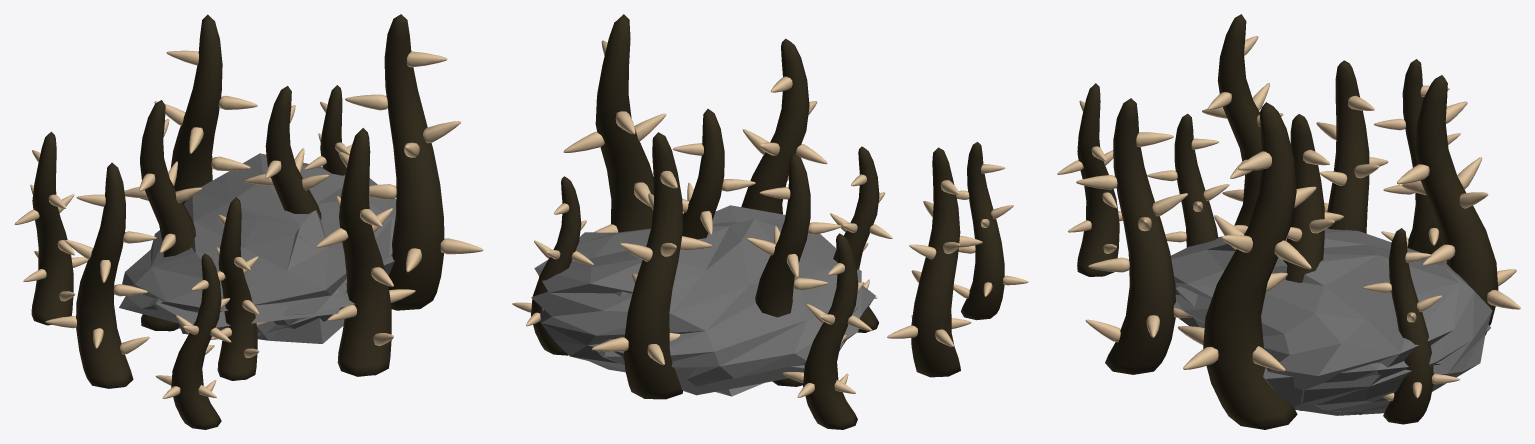
File: DikenveTas.fbx
The picture shows the model from 3 angles, left to right: view 1: azimuth 30°, elevation 25°; view 2: azimuth 150°, elevation 25°; view 3: azimuth 270°, elevation 25°; orthographic projection. The views are drawn at different scales.
Visible parts, largest first — view 1: Environment_Diken, Rock_4, Rock_3, Rock_2, Rock_6; view 2: Environment_Diken, Rock_4, Rock_3; view 3: Environment_Diken, Rock_4, Rock_3.
Part boxes in pixels (left/top/right/bottom): Environment_Diken: left=14, top=14, right=483, bottom=429; Rock_4: left=122, top=153, right=396, bottom=315; Rock_3: left=119, top=236, right=394, bottom=327; Rock_2: left=178, top=317, right=344, bottom=343; Rock_6: left=179, top=314, right=332, bottom=336; Environment_Diken: left=512, top=14, right=1028, bottom=429; Rock_4: left=531, top=205, right=861, bottom=386; Rock_3: left=539, top=276, right=875, bottom=395; Environment_Diken: left=1057, top=14, right=1520, bottom=429; Rock_4: left=1171, top=228, right=1492, bottom=414; Rock_3: left=1175, top=286, right=1490, bottom=415.
Size of the model in its own units: 1.3 by 0.9787 by 1.22.
